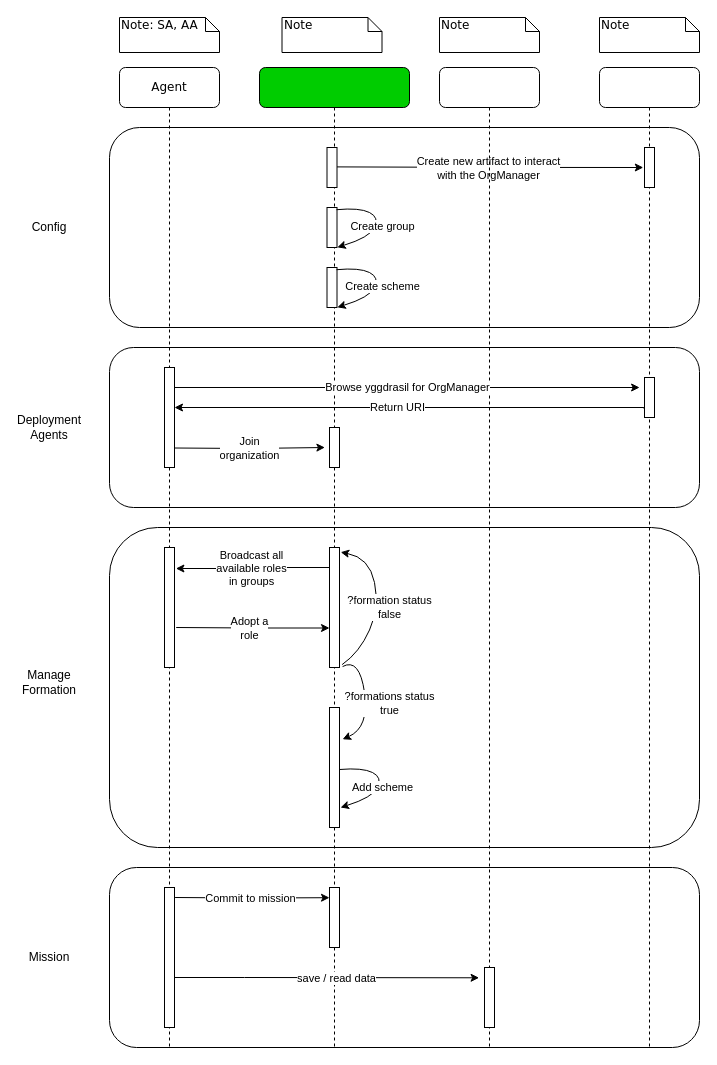
Image size: 717x1065. Some labels were removed from this diagram. The box of each missing label's shape, as (x1, y1, x2, y2) in pixels:
Datalake: (438, 66, 540, 1048)
OrgManager: (258, 66, 410, 1048)
Yggdrasil: (598, 66, 700, 1048)
